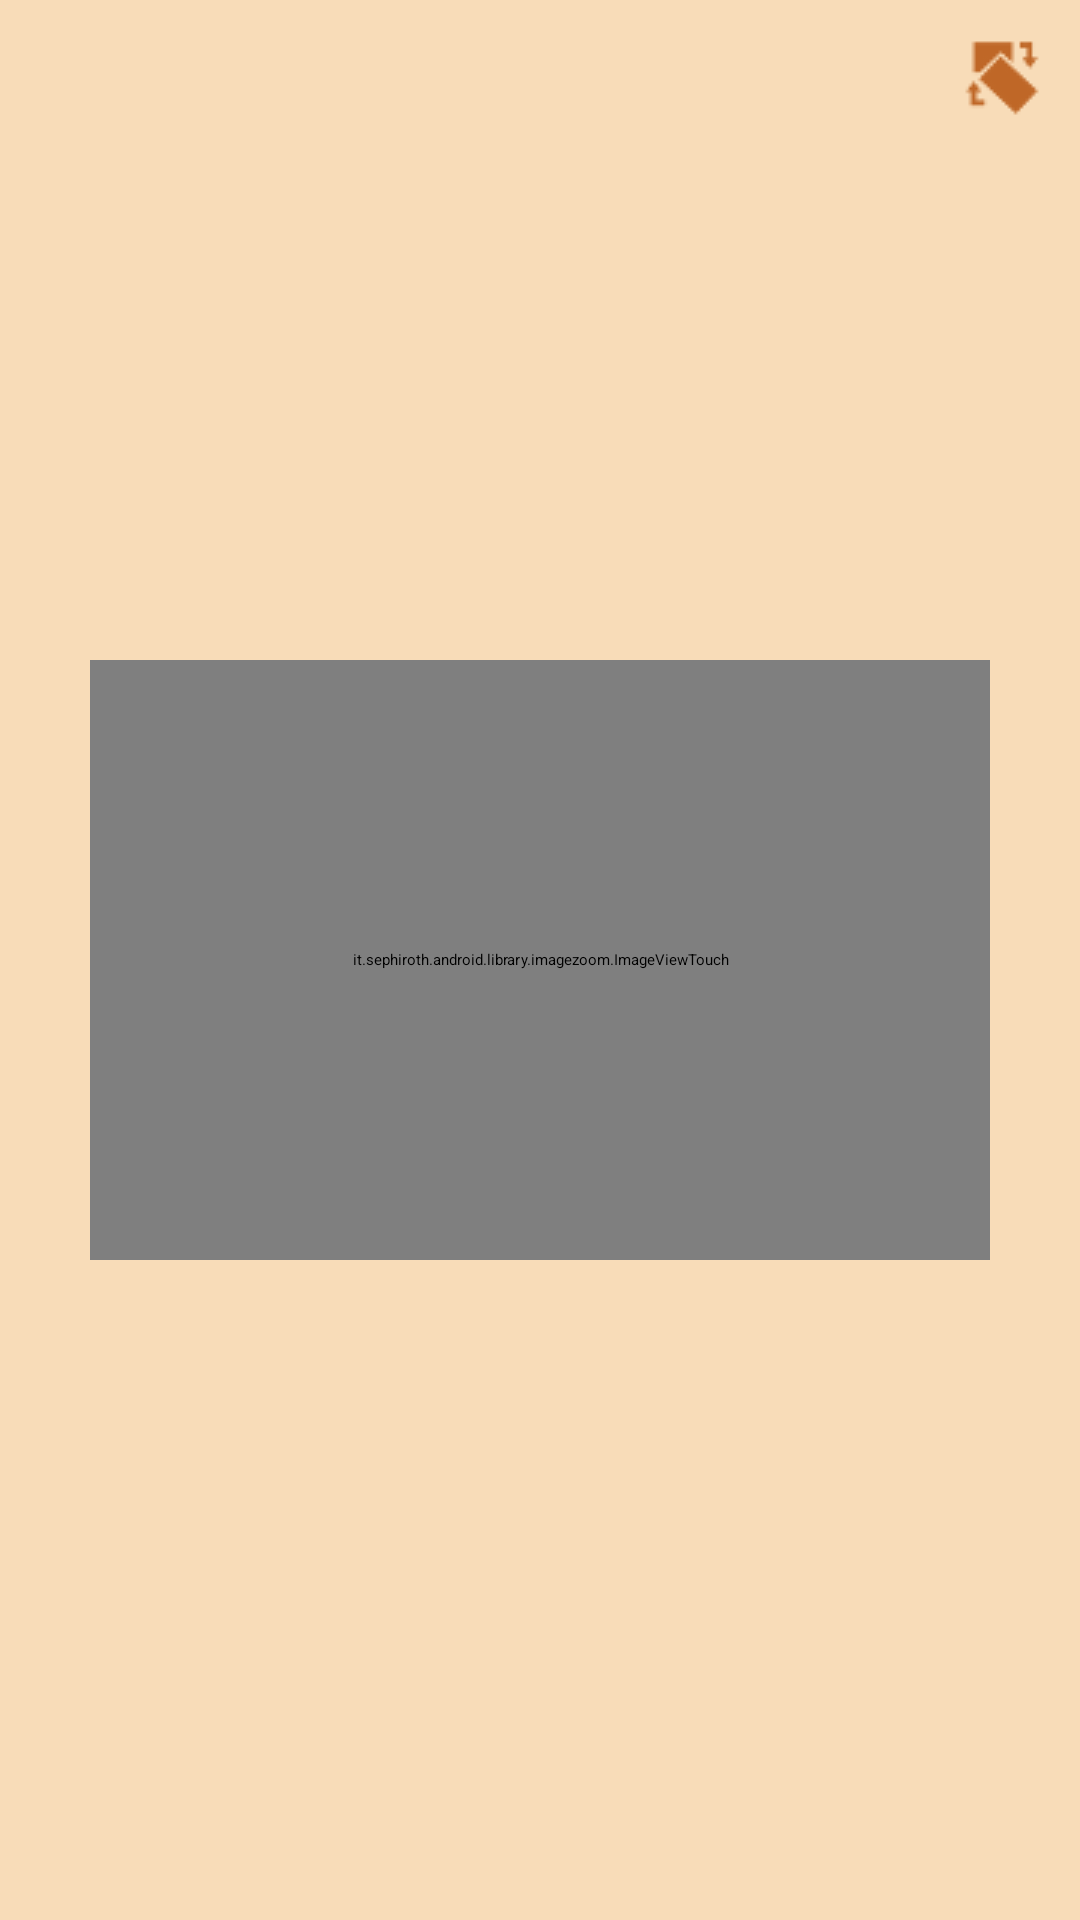

Icons on this 1080px×1920px Android screen, each with the point to tap as (x,y):
rotate: (1002,78)
